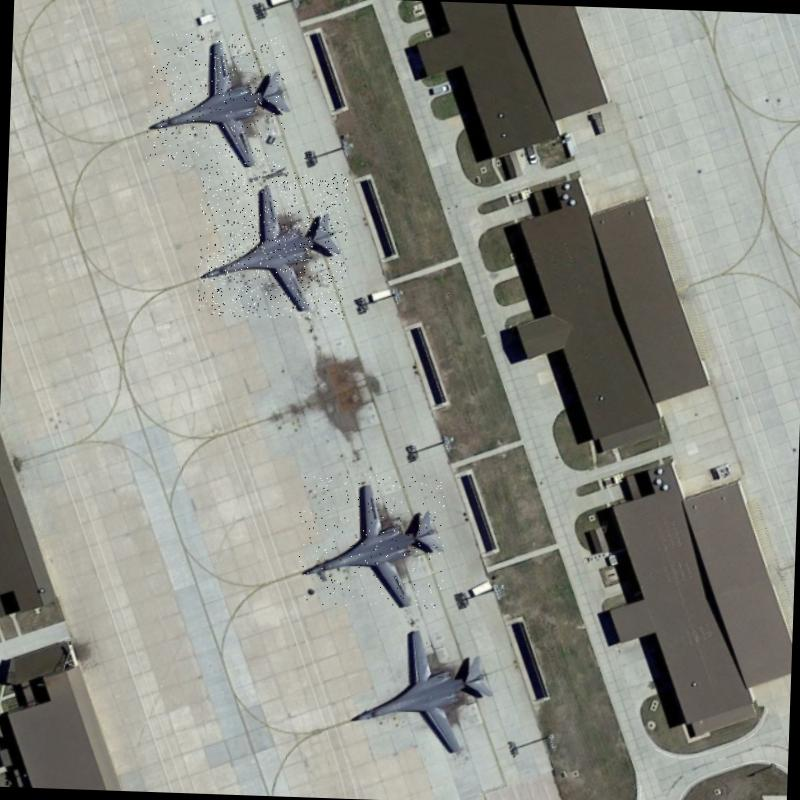A10: (346, 615, 503, 764), (196, 168, 349, 320), (296, 470, 446, 608), (144, 31, 288, 172)
